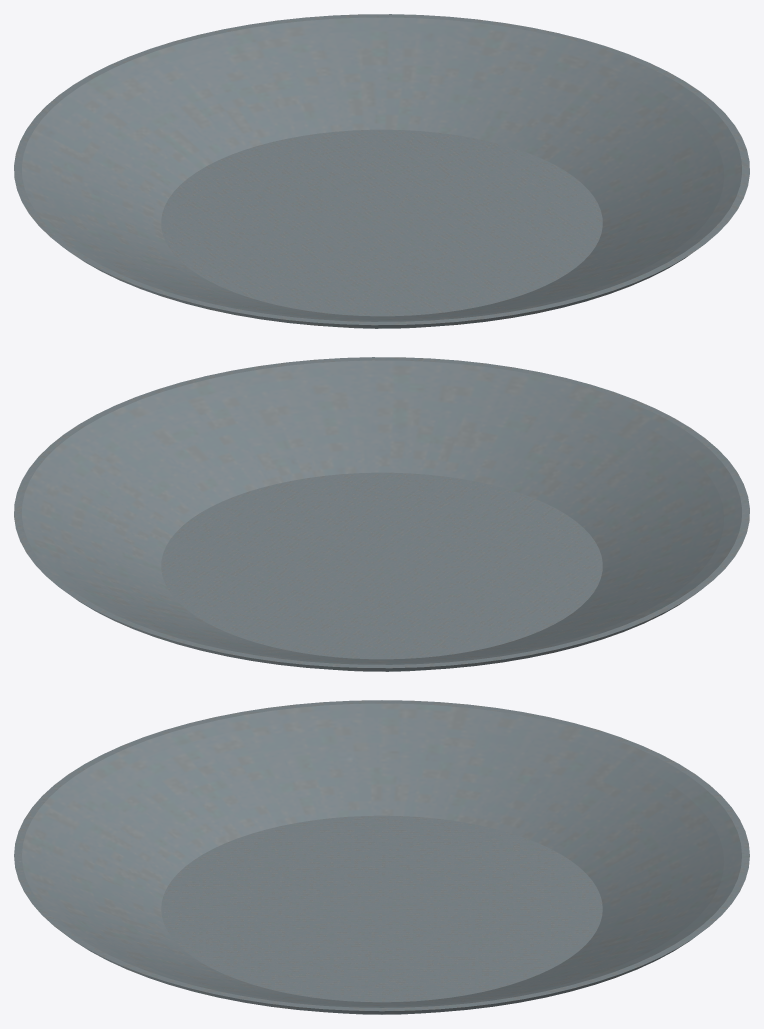
Rendered from misc_com_metal_plate_05.dae.
3 renders of one model, top to bottom at view 1: azimuth 30°, elevation 25°; view 2: azimuth 150°, elevation 25°; view 3: azimuth 270°, elevation 25°, orthographic.
Parts seen in each view (by area): view 1: silver; view 2: silver; view 3: silver.
Part boxes in pixels (x1,y1,x2,y2): silver: (14, 14, 749, 328); silver: (14, 357, 749, 671); silver: (14, 700, 749, 1014).
Size of the model in its own units: 32.65 by 32.65 by 2.97.
